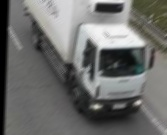truck: (22, 0, 158, 121)
